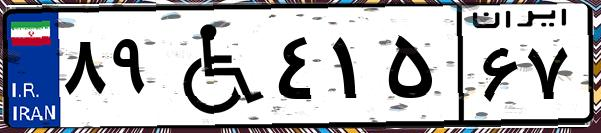1: (330, 28, 385, 110)
4: (270, 28, 330, 110)
5: (385, 28, 445, 110)
6: (475, 38, 525, 113)
7: (525, 38, 570, 115)
8: (57, 26, 110, 100)
9: (110, 28, 158, 98)
ژ (معلولین و جانبازان): (158, 12, 270, 120)
